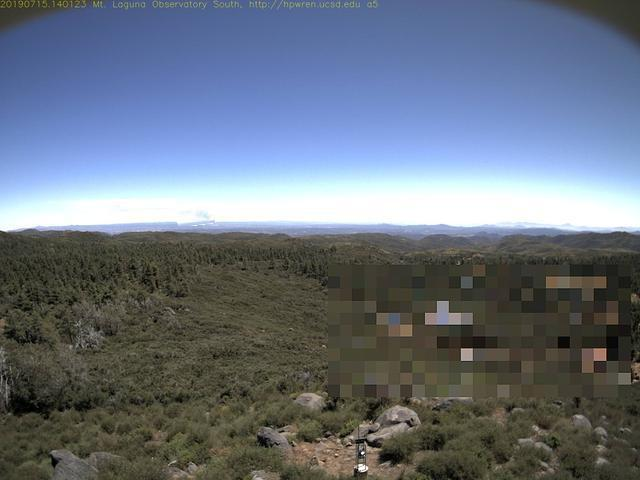smoke: (178, 201, 217, 227)
